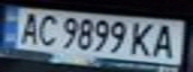8: (75, 16, 96, 52)
9: (57, 15, 81, 51), (90, 17, 112, 53), (109, 18, 130, 55)
A: (148, 21, 184, 59), (12, 9, 45, 45)
C: (33, 11, 60, 47)
K: (127, 19, 160, 57)
